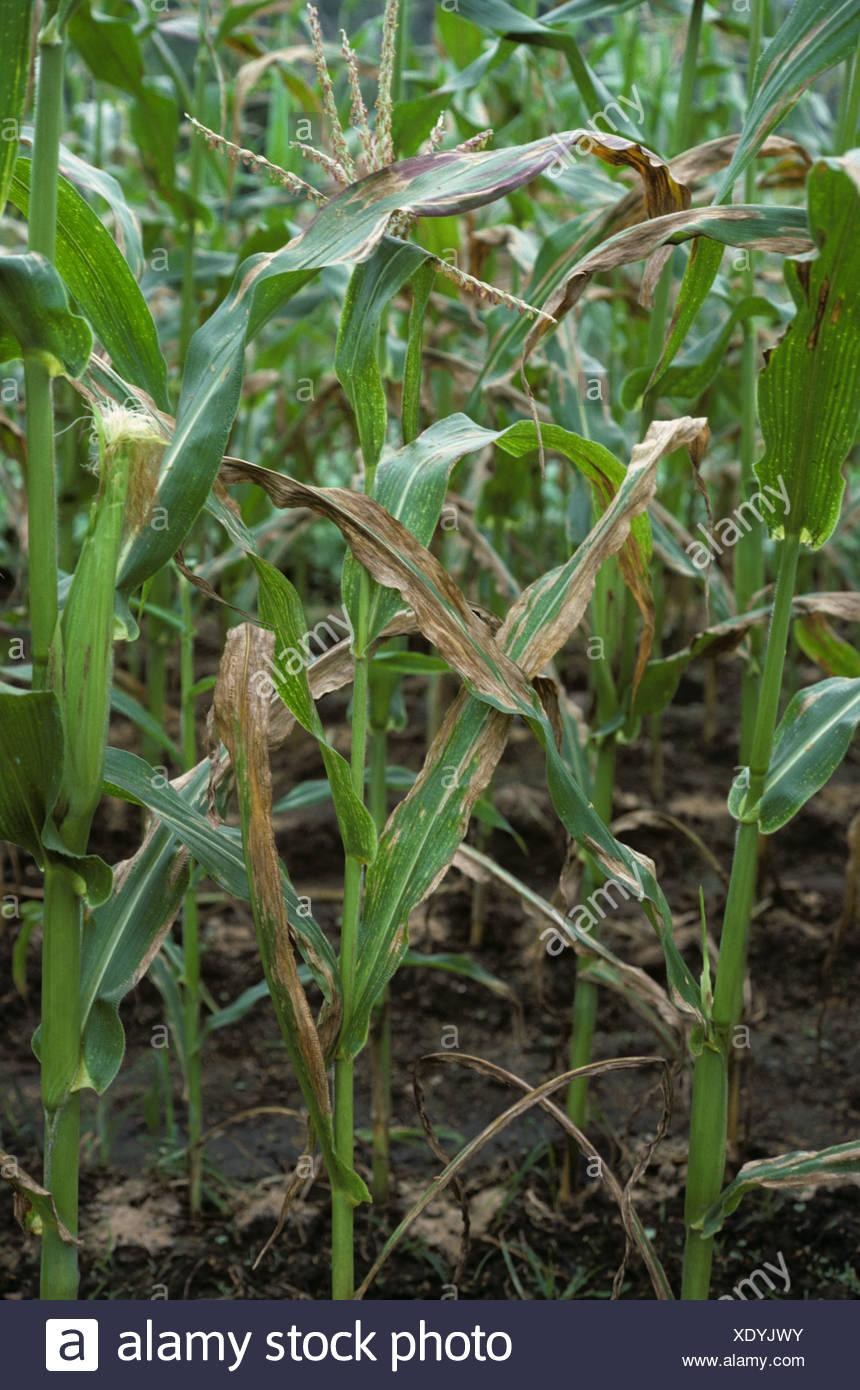Corn leaf blight: (228, 455, 722, 1036), (132, 124, 673, 582), (355, 414, 723, 1021), (219, 616, 352, 1165), (506, 198, 823, 359)
